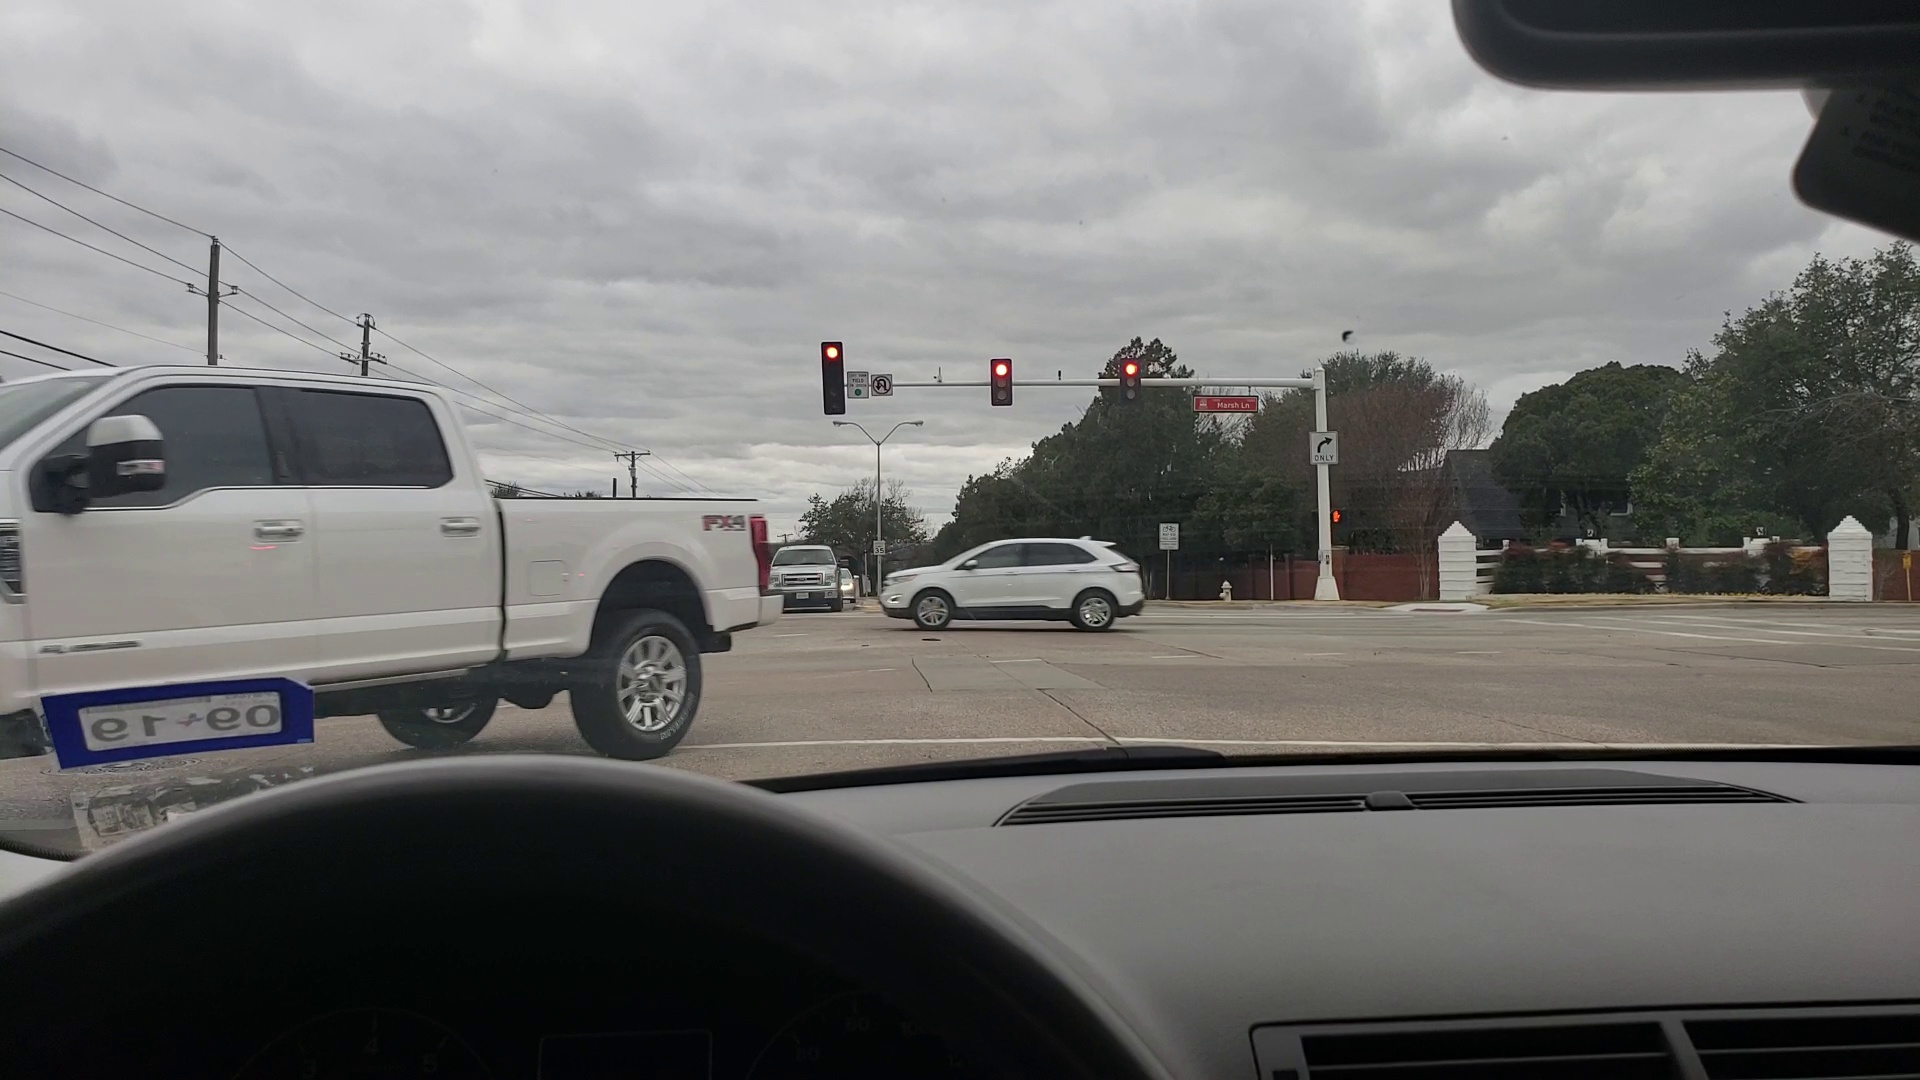car: (880, 530, 1143, 640), (839, 574, 856, 605)
traffic light: (818, 340, 847, 425), (988, 357, 1013, 407), (1120, 357, 1145, 398)
truck: (3, 359, 790, 775), (764, 541, 843, 611)
